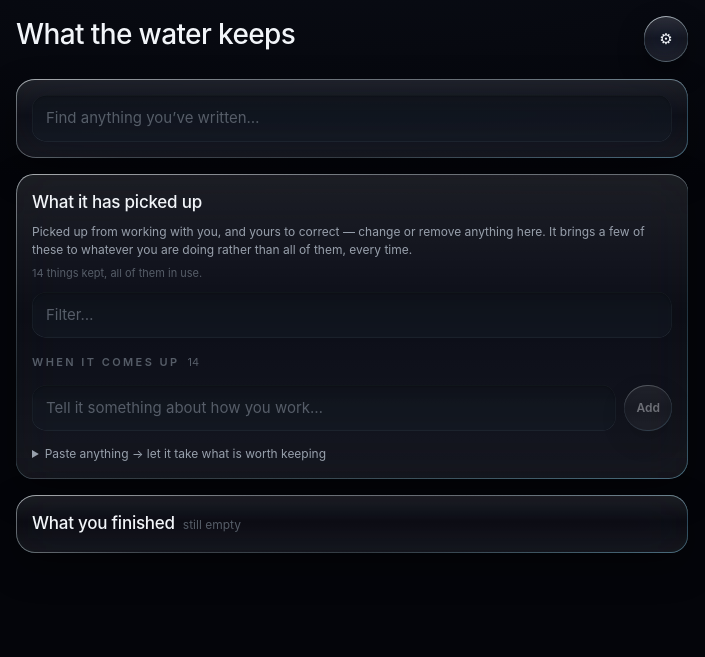
Test: memory that can grow to a hundred › offers a way through it once there is enough to need one
This screenshot has width=705, height=657.
Type "detail 3" into the field named "Filter what it has picked up" at (352, 315), box [32,292,672,338]
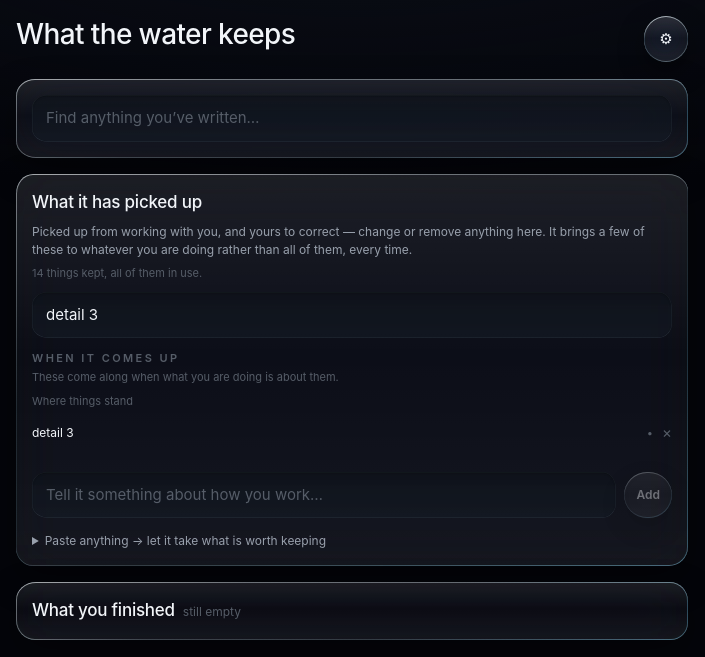
Result: the button "detail 3" is shown at [32,414,639,454]
